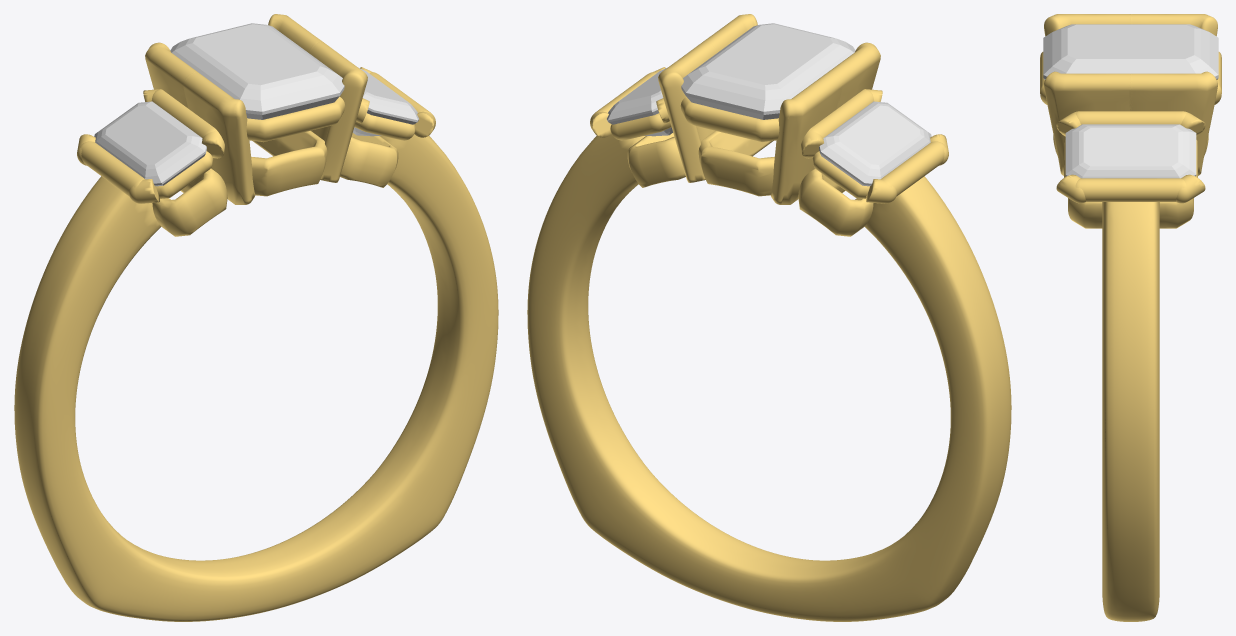
The model's file is diamond-emerald-yellowgold-halfmoonbezel-europeanshank-3stone.glb.
The picture shows the model from 3 angles, left to right: view 1: azimuth 30°, elevation 25°; view 2: azimuth 150°, elevation 25°; view 3: azimuth 270°, elevation 25°; orthographic projection.
Parts seen in each view (by area): view 1: metal.002, stone.002, side.002, side.003; view 2: metal.002, stone.002, side.002, side.003; view 3: metal.002, stone.002, side.003.
Boxes of the visible parts, <box> form: metal.002: <box>14,14,498,621</box>; stone.002: <box>170,23,344,119</box>; side.002: <box>94,101,206,186</box>; side.003: <box>353,68,418,136</box>; metal.002: <box>527,14,1011,621</box>; stone.002: <box>681,23,855,119</box>; side.002: <box>819,101,931,186</box>; side.003: <box>607,68,672,136</box>; metal.002: <box>1040,14,1221,621</box>; stone.002: <box>1043,24,1218,79</box>; side.003: <box>1065,124,1196,178</box>.
Bounding box in the file's own units: 20.1 × 22.75 × 6.94.
